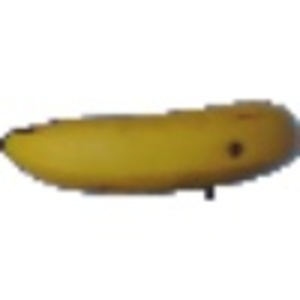banana: (2, 95, 300, 200)
